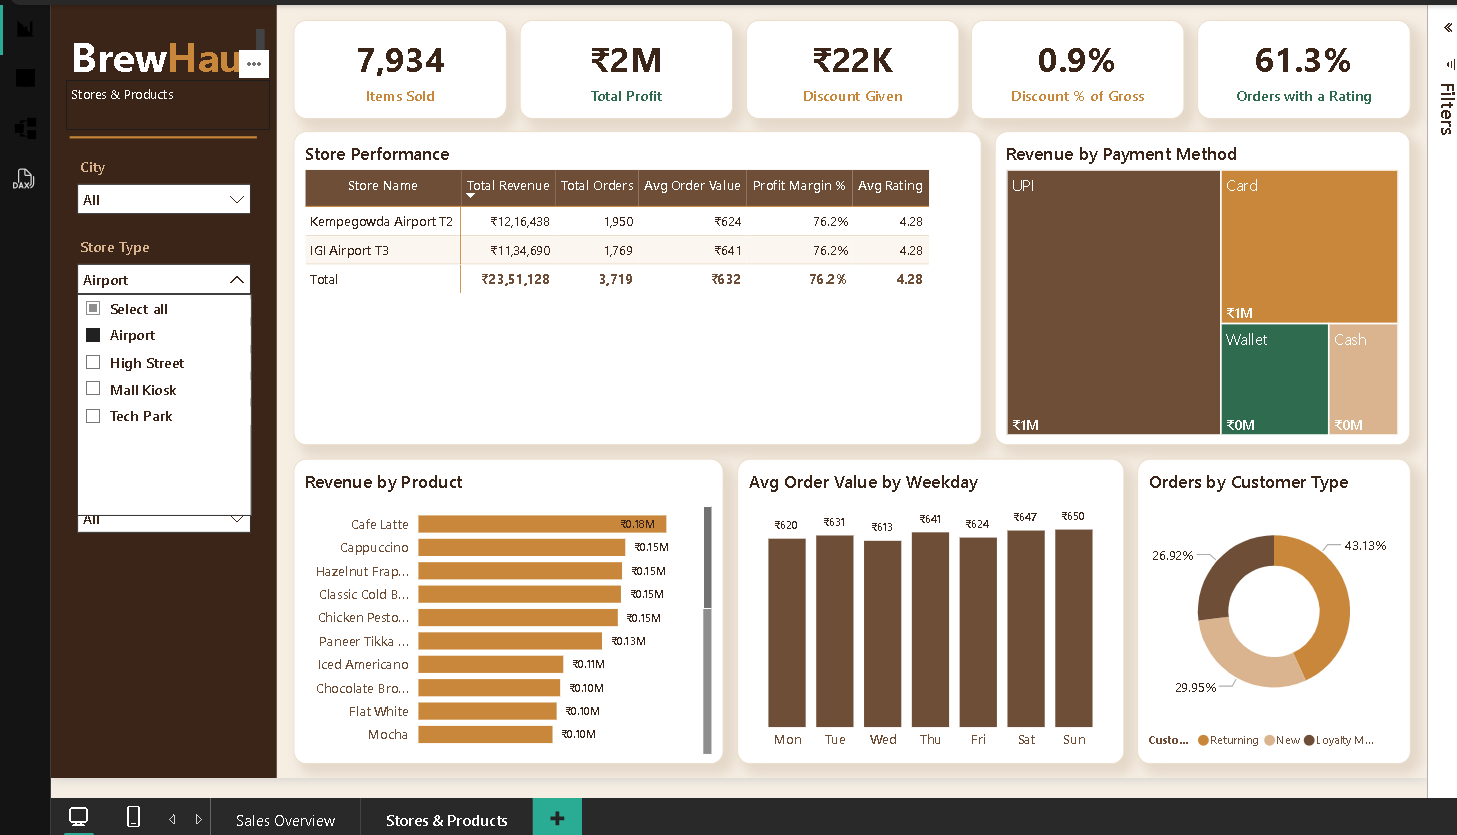

This screenshot's page, from the dashboard's own definition file:
{"tool":"powerbi","page":{"name":"Stores & Products","canvas":[1280,720],"ordinal":1},"visuals":[{"type":"shape","box":[0,0,210,720],"z":1000},{"type":"textbox","box":[14,18,190,56],"z":2000},{"type":"textbox","box":[14,70,190,46],"z":3000},{"type":"shape","box":[18,122,174,2],"z":4000},{"type":"slicer","fields":{"Values":["Stores.City"]},"box":[14,136,182,66],"z":5000},{"type":"slicer","fields":{"Values":["Stores.Store Type"]},"box":[14,210,182,66],"z":6000},{"type":"slicer","fields":{"Values":["Products.Category"]},"box":[14,284,182,66],"z":7000},{"type":"slicer","fields":{"Values":["Orders.Channel"]},"box":[14,358,182,66],"z":8000},{"type":"slicer","fields":{"Values":["Calendar.Month"]},"box":[14,432,182,66],"z":9000},{"type":"textbox","box":[14,660,190,48],"z":10000},{"type":"card","fields":{"Values":["Orders.Items Sold"]},"box":[226,14,198,92],"z":11000},{"type":"card","fields":{"Values":["Orders.Total Profit"]},"box":[436,14,198,92],"z":12000},{"type":"card","fields":{"Values":["Orders.Discount Given"]},"box":[646,14,198,92],"z":13000},{"type":"card","fields":{"Values":["Orders.Discount % of Gross"]},"box":[856,14,198,92],"z":14000},{"type":"card","fields":{"Values":["Orders.Rated Orders %"]},"box":[1066,14,198,92],"z":15000},{"type":"pivotTable","title":"Store Performance","fields":{"Rows":["Stores.Store Name"],"Values":["Orders.Total Revenue","Orders.Total Orders","Orders.Avg Order Value","Orders.Profit Margin %","Orders.Avg Rating"]},"box":[226,118,640,292],"z":16000},{"type":"treemap","title":"Revenue by Payment Method","fields":{"Group":["Orders.Payment Method"],"Values":["Orders.Total Revenue"]},"box":[878,118,386,292],"z":17000},{"type":"clusteredBarChart","title":"Revenue by Product","fields":{"Category":["Products.Product"],"Y":["Orders.Total Revenue"]},"box":[226,422,400,284],"z":18000},{"type":"clusteredColumnChart","title":"Avg Order Value by Weekday","fields":{"Category":["Calendar.Day Name"],"Y":["Orders.Avg Order Value"]},"box":[638,422,360,284],"z":19000},{"type":"donutChart","title":"Orders by Customer Type","fields":{"Category":["Orders.Customer Type"],"Y":["Orders.Total Orders"]},"box":[1010,422,254,284],"z":20000}]}

Visuals, with their boxes on the page's 1280x720 design canvas (x1, y1, x2, y2). These are canvas units, not pixel positions in the 1457x835 screenshot, which may show the page scaled, cropped or inside an application window:
shape: (x1=0, y1=0, x2=210, y2=720)
textbox: (x1=14, y1=18, x2=204, y2=74)
textbox: (x1=14, y1=70, x2=204, y2=116)
shape: (x1=18, y1=122, x2=192, y2=124)
slicer - Stores.City: (x1=14, y1=136, x2=196, y2=202)
slicer - Stores.Store Type: (x1=14, y1=210, x2=196, y2=276)
slicer - Products.Category: (x1=14, y1=284, x2=196, y2=350)
slicer - Orders.Channel: (x1=14, y1=358, x2=196, y2=424)
slicer - Calendar.Month: (x1=14, y1=432, x2=196, y2=498)
textbox: (x1=14, y1=660, x2=204, y2=708)
card - Orders.Items Sold: (x1=226, y1=14, x2=424, y2=106)
card - Orders.Total Profit: (x1=436, y1=14, x2=634, y2=106)
card - Orders.Discount Given: (x1=646, y1=14, x2=844, y2=106)
card - Orders.Discount % of Gross: (x1=856, y1=14, x2=1054, y2=106)
card - Orders.Rated Orders %: (x1=1066, y1=14, x2=1264, y2=106)
"Store Performance" pivotTable: (x1=226, y1=118, x2=866, y2=410)
"Revenue by Payment Method" treemap: (x1=878, y1=118, x2=1264, y2=410)
"Revenue by Product" clusteredBarChart: (x1=226, y1=422, x2=626, y2=706)
"Avg Order Value by Weekday" clusteredColumnChart: (x1=638, y1=422, x2=998, y2=706)
"Orders by Customer Type" donutChart: (x1=1010, y1=422, x2=1264, y2=706)
